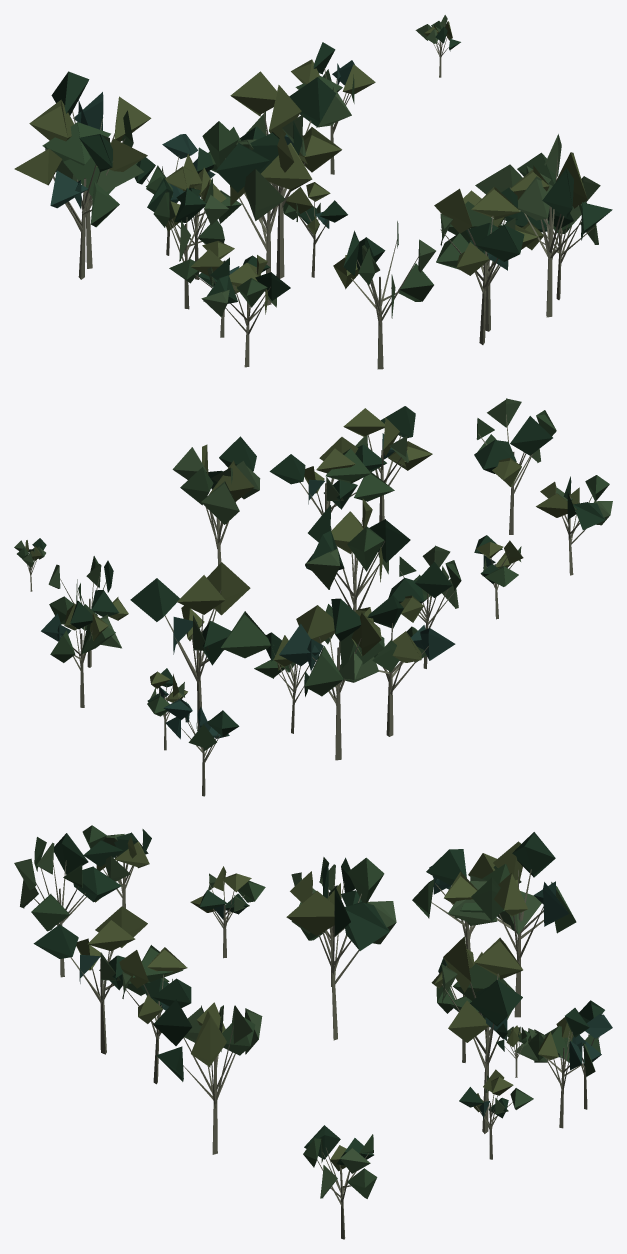
Rendered from forest_22_25.dae.
The picture shows the model from 3 angles, top to bottom: view 1: azimuth 30°, elevation 25°; view 2: azimuth 150°, elevation 25°; view 3: azimuth 270°, elevation 25°; orthographic projection. The views are drawn at different scales.
Parts seen in each view (by area): view 1: Node; view 2: Node; view 3: Node.
Boxes of the visible parts, bbox=[...] form: Node: bbox=[14, 15, 612, 369]; Node: bbox=[14, 398, 612, 796]; Node: bbox=[14, 825, 612, 1239].
Size of the model in its own units: 10.5 by 11.34 by 5.13.
